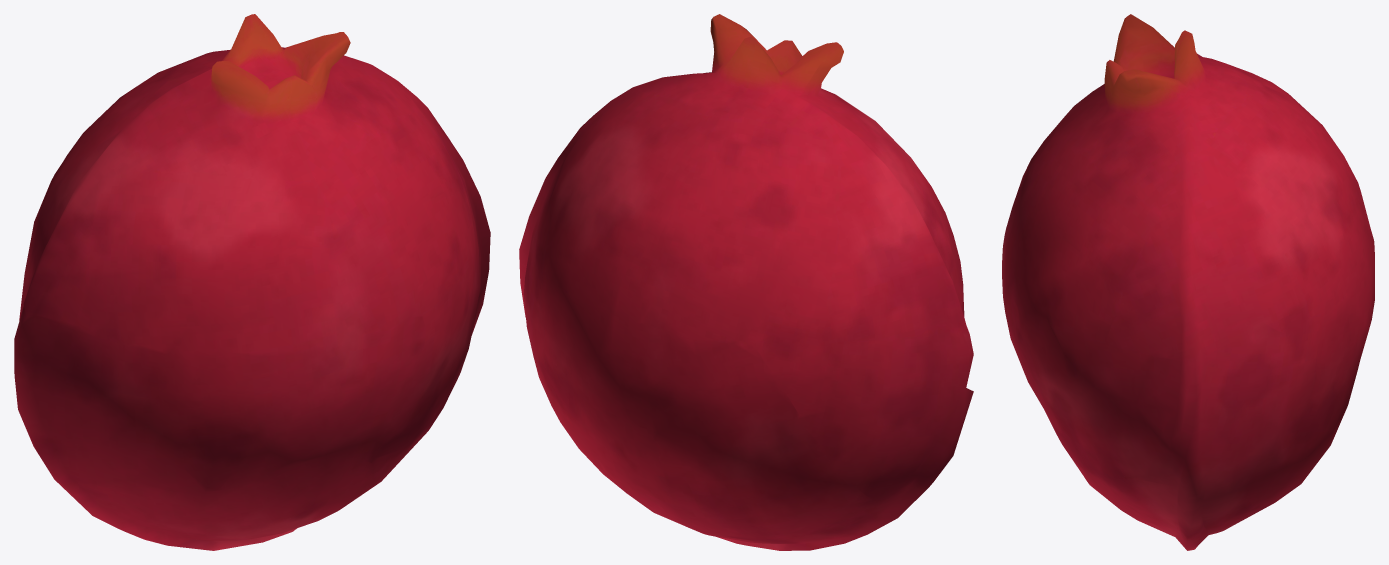
File: pomegranate.glb
The picture shows the model from 3 angles, left to right: view 1: azimuth 30°, elevation 25°; view 2: azimuth 150°, elevation 25°; view 3: azimuth 270°, elevation 25°; orthographic projection. The views are drawn at different scales.
Visible parts, largest first — view 1: tripo_node_2e0963bb-0d90-4910-9295-01f6982d3632; view 2: tripo_node_2e0963bb-0d90-4910-9295-01f6982d3632; view 3: tripo_node_2e0963bb-0d90-4910-9295-01f6982d3632.
Part boxes in pixels (box(x1,y1,x2,y2)): tripo_node_2e0963bb-0d90-4910-9295-01f6982d3632: box(14, 14, 490, 550); tripo_node_2e0963bb-0d90-4910-9295-01f6982d3632: box(519, 14, 973, 550); tripo_node_2e0963bb-0d90-4910-9295-01f6982d3632: box(1002, 14, 1374, 550).
Size of the model in its own units: 1.04 by 1.12 by 0.7585.
Materials: 1 (1 with a texture image).
